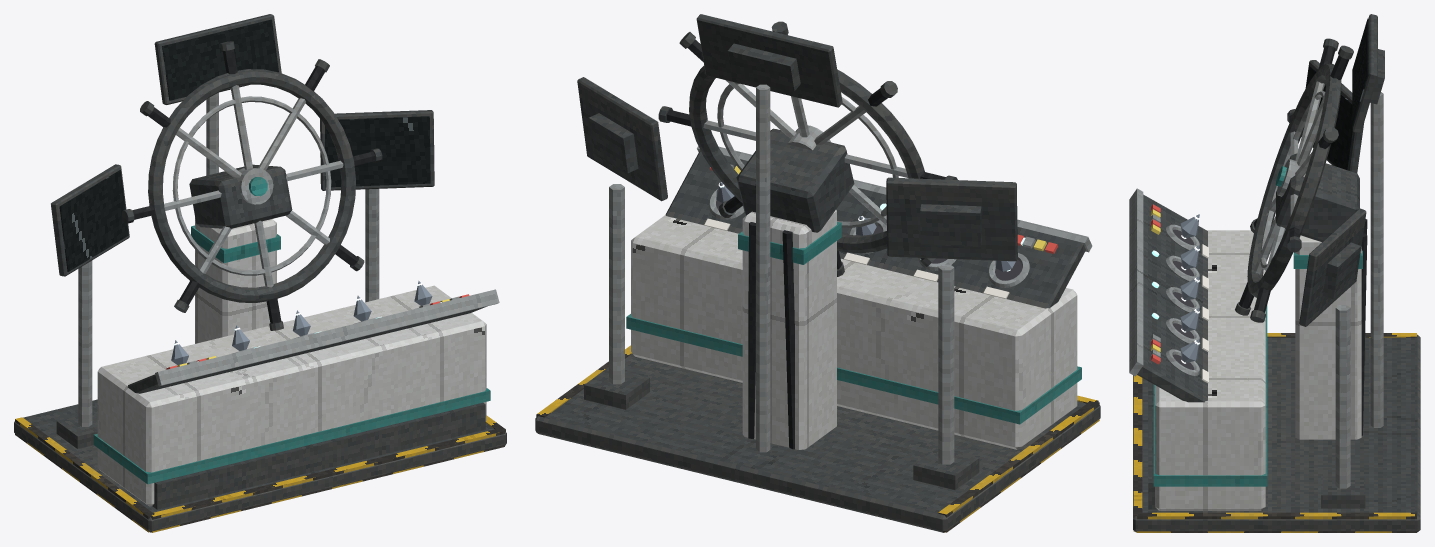
File: portal_helm.glb
3 views of the same model, side by side, from view 1: azimuth 30°, elevation 25°; view 2: azimuth 150°, elevation 25°; view 3: azimuth 270°, elevation 25° (orthographic). The views are drawn at different scales.
Visible parts, largest first — view 1: body, wheel, screens_dead; view 2: body, wheel; view 3: body, wheel, screens_dead.
Part boxes in pixels (bbox=[...]): body: bbox=[14, 14, 506, 532]; wheel: bbox=[121, 41, 382, 330]; screens_dead: bbox=[59, 19, 430, 271]; body: bbox=[535, 14, 1100, 532]; wheel: bbox=[658, 21, 957, 276]; body: bbox=[1129, 14, 1420, 532]; wheel: bbox=[1235, 38, 1353, 322]; screens_dead: bbox=[1302, 18, 1368, 170].
Size of the model in its own units: 3.14 by 2.98 by 1.97.
Materials: 16 (8 with a texture image).
